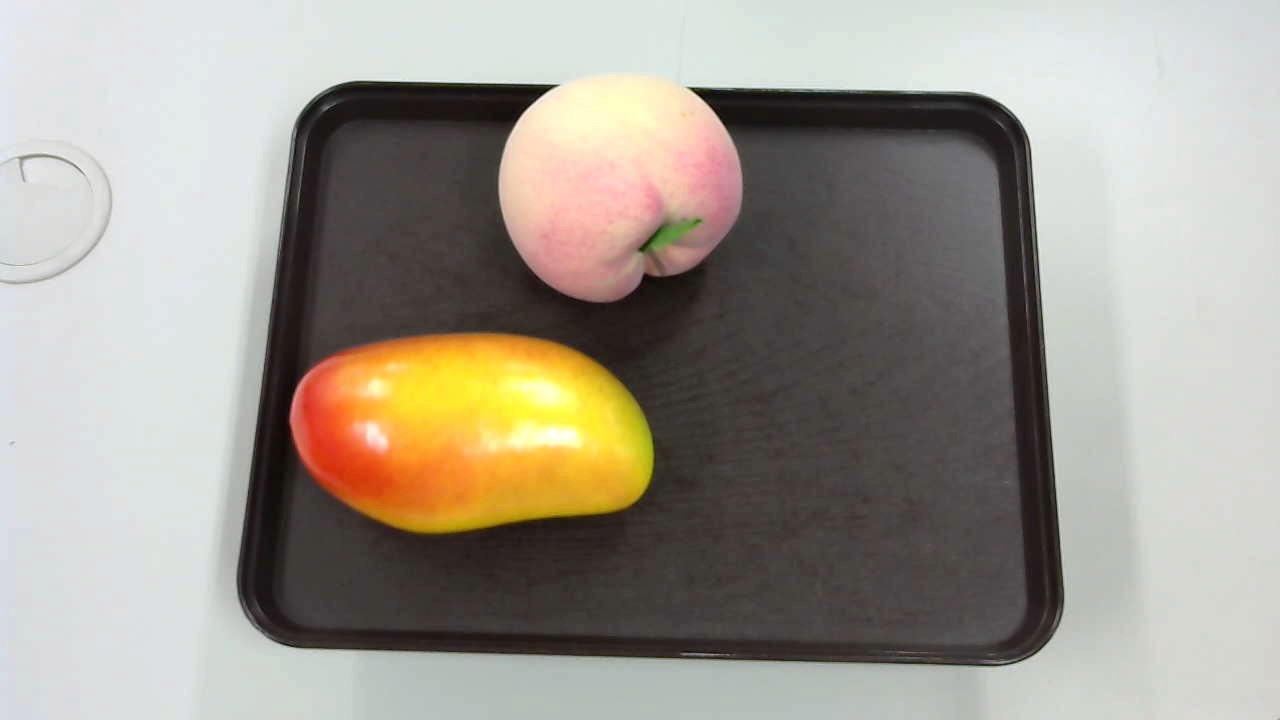peach: (489, 67, 747, 307)
red mango: (279, 330, 659, 534)
